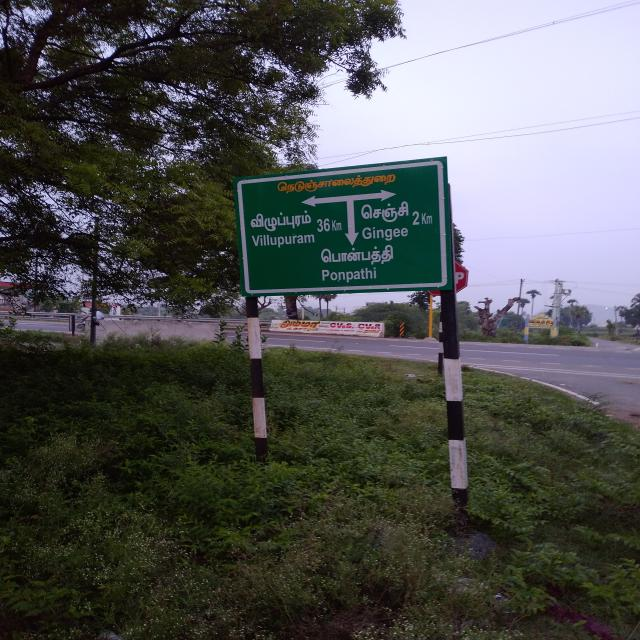GENERAL: (230, 155, 454, 299)
